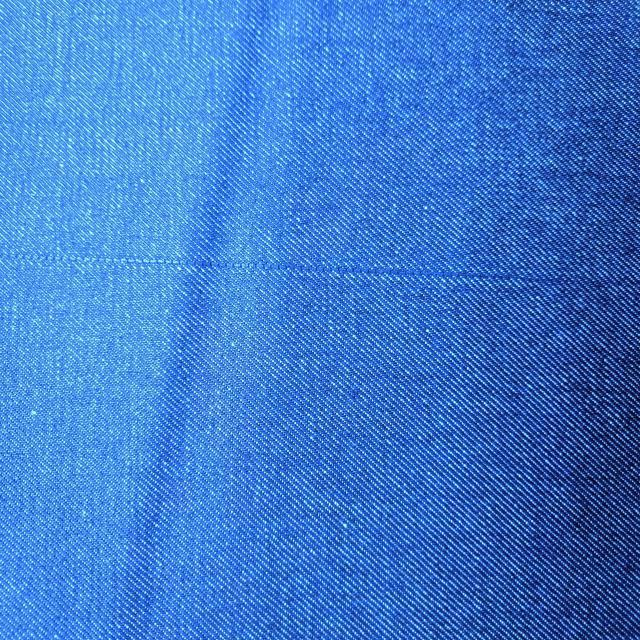Line: (7, 248, 632, 290)
